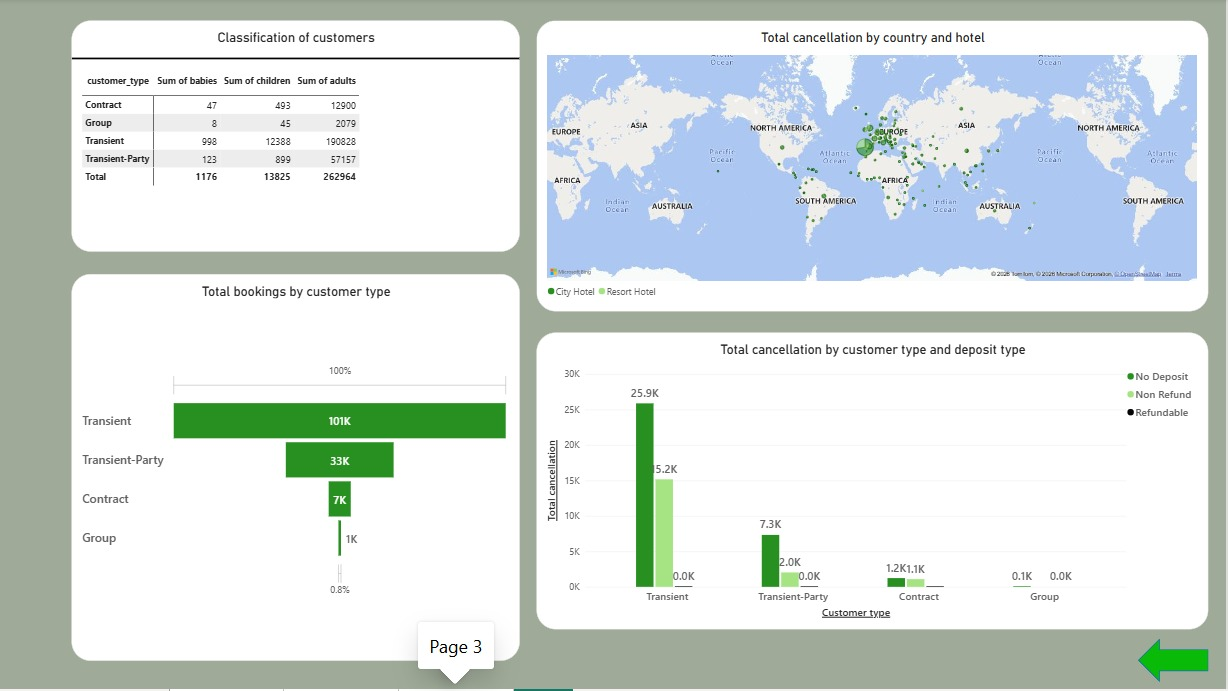

The page's visual inventory and layout, read from the dashboard file:
{"tool":"powerbi","page":{"name":"Page 3","canvas":[1920,1080],"ordinal":2},"visuals":[{"type":"map","title":"Total cancellation by country and hotel","fields":{"Category":["hotel booking.country"],"Series":["hotel booking.hotel"],"Size":["Sum(hotel booking.is_canceled)"]},"box":[841.7,35.2,1050.3,454.8],"z":0},{"type":"funnel","title":"Total bookings by customer type","fields":{"Category":["hotel booking.customer_type"],"Y":["2018.total bookin"]},"box":[114.9,431.4,701,604.9],"z":1000},{"type":"pivotTable","title":"Classification of customers","fields":{"Rows":["hotel booking.customer_type"],"Values":["Sum(hotel booking.babies)","Sum(hotel booking.children)","Sum(hotel booking.adults)"]},"box":[114.9,35.2,701,361.1],"z":2000},{"type":"clusteredColumnChart","title":"Total cancellation by customer type and deposit type","fields":{"Category":["hotel booking.customer_type"],"Series":["hotel booking.deposit_type"],"Y":["Sum(hotel booking.is_canceled)"]},"box":[841.7,522.8,1050.3,464.2],"z":3000},{"type":"shape","box":[1781.8,1001.1,110.2,68],"z":4000}]}

Visuals, with their boxes in screenshot pixels (x1, y1, x2, y2), scaled from the page's 1920x1080 canvas onto the 1228x691 screenshot:
"Total cancellation by country and hotel" map: box=[538, 23, 1210, 314]
"Total bookings by customer type" funnel: box=[73, 276, 522, 663]
"Classification of customers" pivotTable: box=[73, 23, 522, 254]
"Total cancellation by customer type and deposit type" clusteredColumnChart: box=[538, 334, 1210, 631]
shape: box=[1140, 641, 1210, 684]
